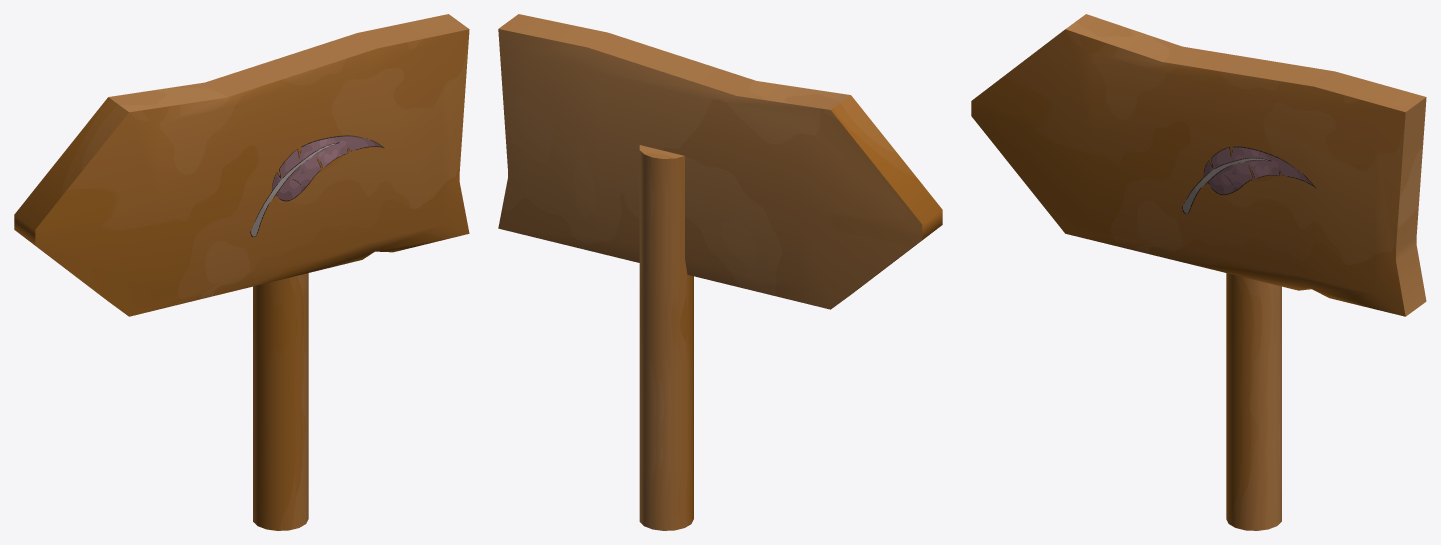
The model's file is SignTuy.fbx.
3 views of the same model, side by side, from view 1: azimuth 30°, elevation 25°; view 2: azimuth 150°, elevation 25°; view 3: azimuth 330°, elevation 25° (orthographic). The views are drawn at different scales.
Visible parts, largest first — view 1: SignTuy; view 2: SignTuy; view 3: SignTuy.
Boxes of the visible parts, x1,y1,x2,y2 form: SignTuy: (14, 14, 469, 530); SignTuy: (498, 14, 942, 530); SignTuy: (971, 14, 1426, 530).
Size of the model in its own units: 191 by 195 by 26.68.
1 material, 1 textured.
